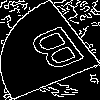B: (25, 25, 95, 81)
